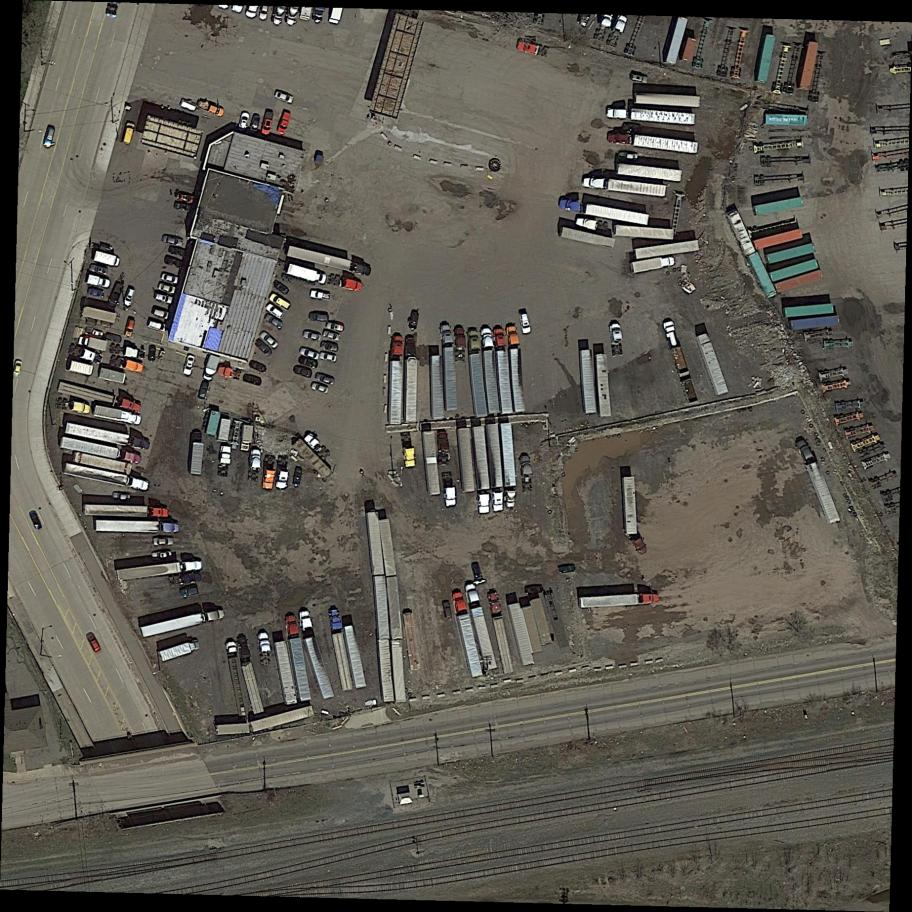large-vehicle: (794, 438, 842, 526), (300, 609, 336, 701), (663, 320, 699, 404), (465, 583, 498, 671), (452, 591, 484, 679), (62, 462, 150, 493), (287, 245, 372, 277), (58, 382, 142, 414), (559, 197, 650, 226), (140, 608, 225, 639), (65, 422, 152, 451), (237, 634, 267, 716), (59, 437, 143, 466), (285, 614, 312, 702), (487, 592, 515, 676), (696, 333, 731, 397), (622, 476, 649, 557), (328, 608, 354, 692), (608, 131, 699, 154), (250, 704, 316, 734), (116, 559, 203, 581), (225, 641, 249, 717), (581, 177, 667, 198), (468, 330, 488, 419), (506, 327, 526, 414), (605, 107, 696, 126), (508, 602, 535, 666), (473, 426, 491, 514), (487, 424, 505, 512), (495, 328, 513, 415), (72, 451, 134, 476), (388, 334, 405, 425), (482, 329, 500, 414), (344, 624, 367, 690), (440, 324, 457, 412), (275, 640, 298, 705), (747, 252, 778, 300), (726, 208, 756, 257), (501, 423, 517, 509), (617, 162, 682, 183), (560, 226, 616, 250), (635, 240, 700, 260), (766, 242, 817, 267), (422, 430, 441, 497), (577, 593, 661, 608), (775, 269, 825, 294), (665, 17, 690, 66), (366, 512, 385, 576), (83, 505, 169, 519), (95, 520, 180, 534), (770, 259, 819, 283), (634, 91, 702, 108), (405, 335, 418, 423), (580, 349, 597, 415), (379, 518, 398, 577), (458, 428, 475, 493), (373, 575, 390, 640), (521, 605, 544, 653), (387, 576, 404, 640), (754, 228, 803, 250), (530, 598, 552, 645), (286, 262, 328, 286), (391, 639, 407, 702), (754, 197, 804, 217), (378, 640, 394, 702), (158, 640, 201, 663), (93, 405, 142, 425), (614, 225, 675, 241), (597, 353, 612, 418), (800, 42, 819, 91), (758, 35, 777, 84), (630, 255, 676, 275), (431, 356, 445, 420), (789, 315, 840, 331), (785, 303, 835, 318), (189, 432, 206, 476), (77, 334, 109, 352), (765, 114, 808, 127), (214, 723, 250, 736), (239, 425, 254, 452), (682, 38, 697, 64)
small-vehicle: (104, 281, 126, 311), (195, 98, 226, 118), (202, 354, 221, 382), (93, 250, 121, 269), (268, 292, 292, 313), (275, 110, 293, 137), (258, 330, 280, 351), (86, 274, 112, 291), (259, 111, 275, 138), (253, 338, 274, 358), (41, 126, 58, 150), (265, 302, 286, 321), (160, 233, 185, 248), (263, 313, 285, 330), (273, 89, 296, 105), (121, 122, 136, 146), (247, 359, 269, 375), (271, 4, 287, 26), (518, 311, 532, 336), (297, 355, 320, 370), (328, 5, 344, 26), (237, 110, 251, 134), (291, 364, 313, 379), (272, 279, 290, 297), (182, 354, 196, 377), (298, 347, 321, 361), (122, 288, 137, 309), (162, 254, 183, 269), (314, 372, 336, 386), (244, 1, 260, 20), (243, 372, 263, 387), (28, 510, 43, 530), (86, 633, 101, 653), (311, 5, 326, 25), (249, 112, 262, 135), (176, 192, 197, 206), (310, 381, 331, 395), (88, 263, 109, 277), (309, 289, 331, 302), (172, 201, 192, 215), (147, 319, 167, 333), (154, 291, 174, 305), (472, 563, 485, 584), (179, 587, 199, 600), (524, 583, 544, 596), (124, 318, 137, 338), (86, 286, 106, 299), (157, 282, 177, 295), (298, 5, 313, 22), (302, 330, 323, 342), (322, 329, 341, 342), (160, 272, 179, 285), (292, 466, 303, 488), (319, 341, 339, 353), (318, 351, 338, 363), (152, 307, 170, 320), (152, 551, 173, 562), (326, 321, 345, 333), (198, 381, 210, 399), (258, 4, 270, 22), (409, 311, 420, 330), (309, 312, 329, 322), (631, 74, 649, 84), (442, 600, 452, 618), (618, 152, 638, 161), (167, 246, 185, 256), (153, 538, 175, 546), (558, 565, 577, 574), (112, 492, 131, 501), (13, 359, 23, 376), (230, 2, 244, 14), (149, 344, 157, 362)
